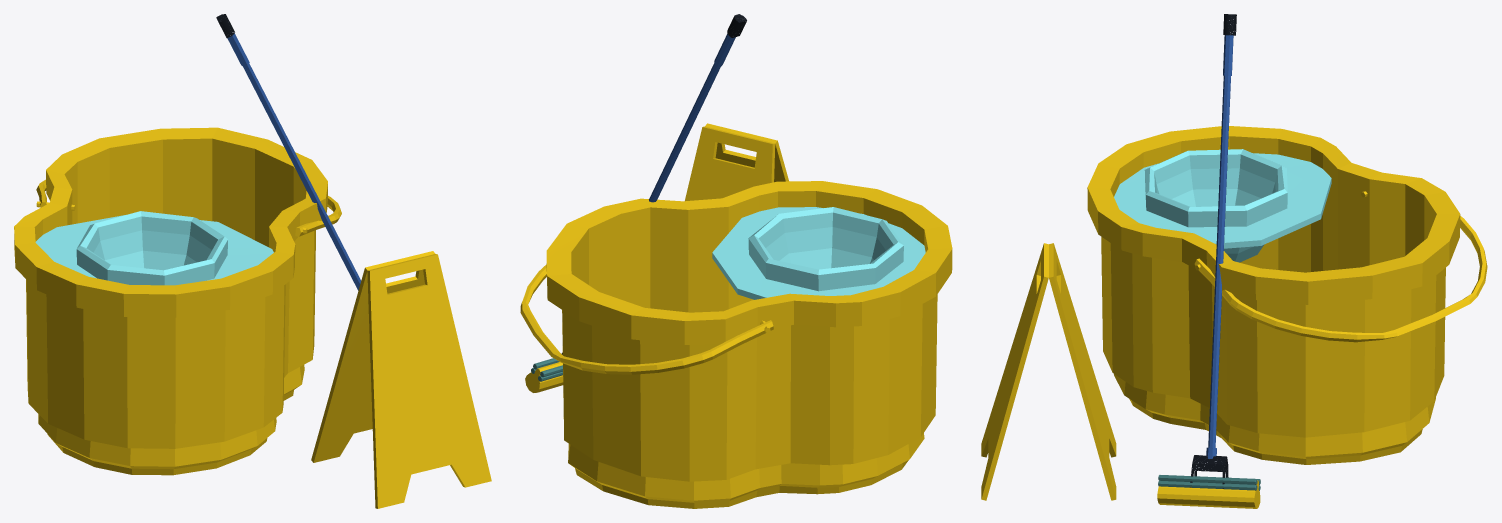
The model's file is Prop_CleaningEquipment.fbx.
The picture shows the model from 3 angles, left to right: view 1: azimuth 30°, elevation 25°; view 2: azimuth 150°, elevation 25°; view 3: azimuth 270°, elevation 25°; orthographic projection. The views are drawn at different scales.
Visible parts, largest first — view 1: Prop_CleaningEquipment; view 2: Prop_CleaningEquipment; view 3: Prop_CleaningEquipment.
Part boxes in pixels (left/top/right/bottom): Prop_CleaningEquipment: left=14, top=14, right=491, bottom=508; Prop_CleaningEquipment: left=520, top=14, right=952, bottom=508; Prop_CleaningEquipment: left=981, top=14, right=1487, bottom=508.
Size of the model in its own units: 164 by 145 by 149.
